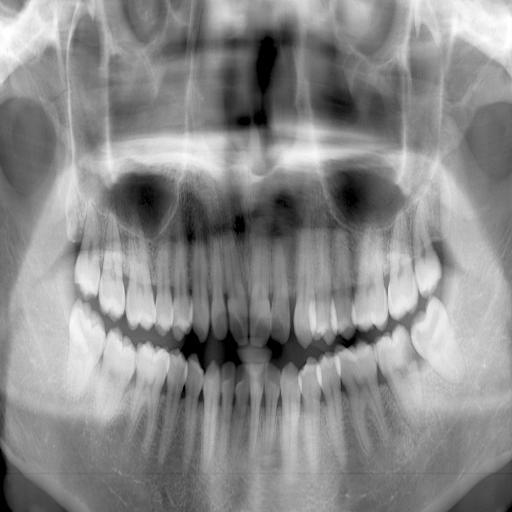Wisdom teeth: (412, 297, 463, 379), (67, 300, 105, 395), (75, 210, 100, 297), (415, 245, 440, 297)
